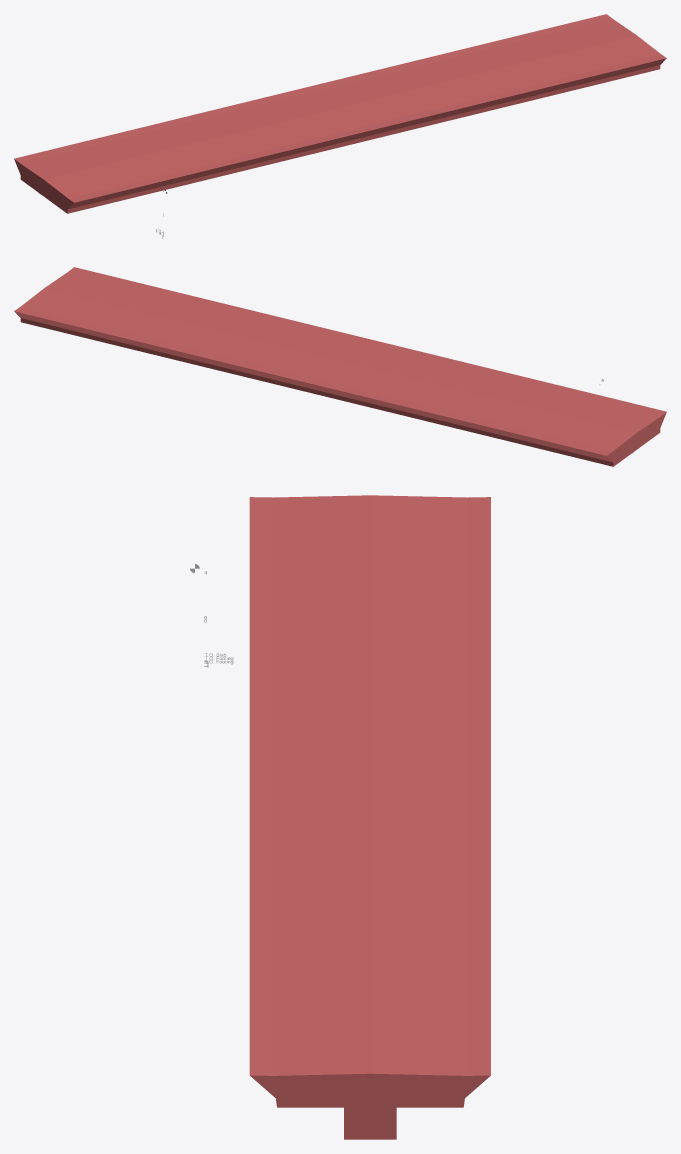
The model's file is bridge5_deck.obj.
The picture shows the model from 3 angles, top to bottom: view 1: azimuth 30°, elevation 25°; view 2: azimuth 150°, elevation 25°; view 3: azimuth 270°, elevation 25°; orthographic projection. The views are drawn at different scales.
Visible parts, largest first — view 1: mesh_2; view 2: mesh_2; view 3: mesh_2, mesh_0.
Boxes of the visible parts, x1,y1,x2,y2 form: mesh_2: [14, 14, 666, 213]; mesh_2: [14, 267, 666, 466]; mesh_2: [249, 495, 490, 1107]; mesh_0: [344, 1107, 396, 1139].
Size of the model in its own units: 110 by 9.21 by 24.2.
